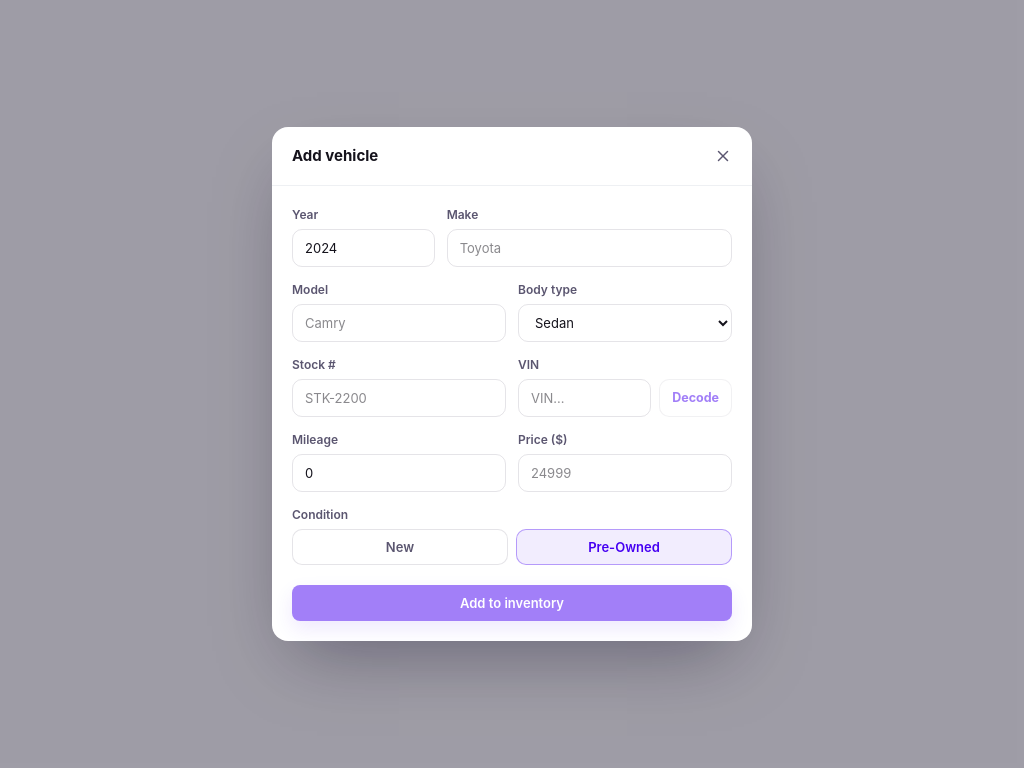
Test case: AddVehicleModal — VIN decode › clears a previous decode error as soon as the VIN is edited
Type "BADVIN" into the field with placeholder "VIN..." at (585, 398), box [518, 379, 651, 417]
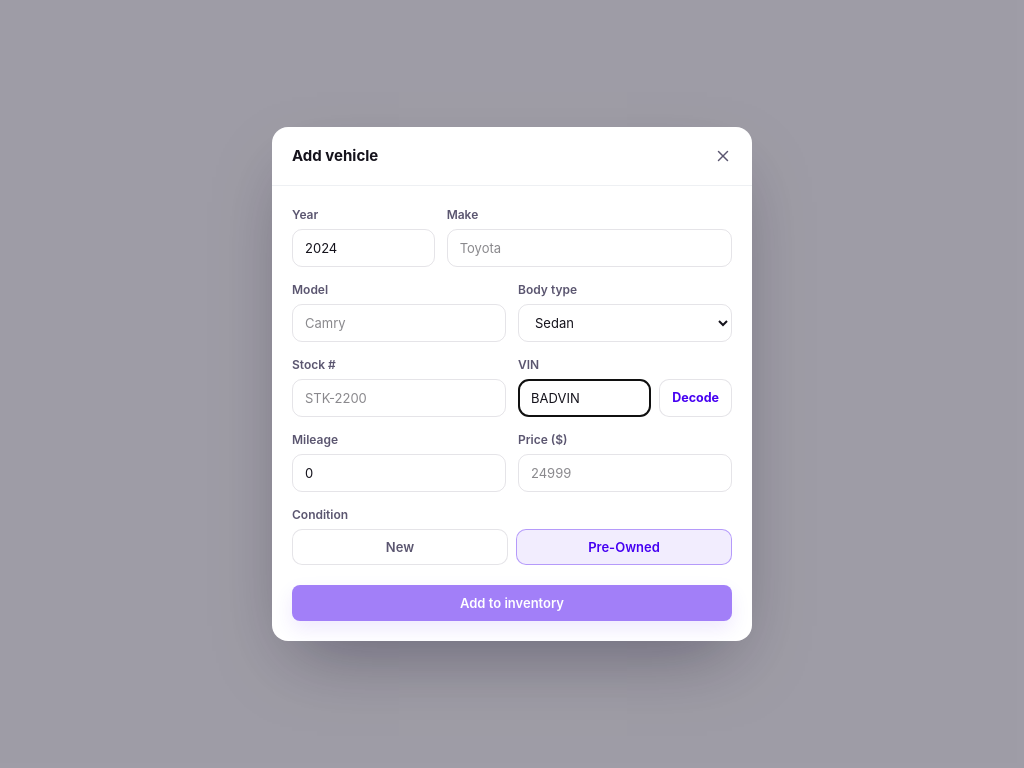
Click the button "Decode" at (696, 398), box [659, 379, 732, 417]
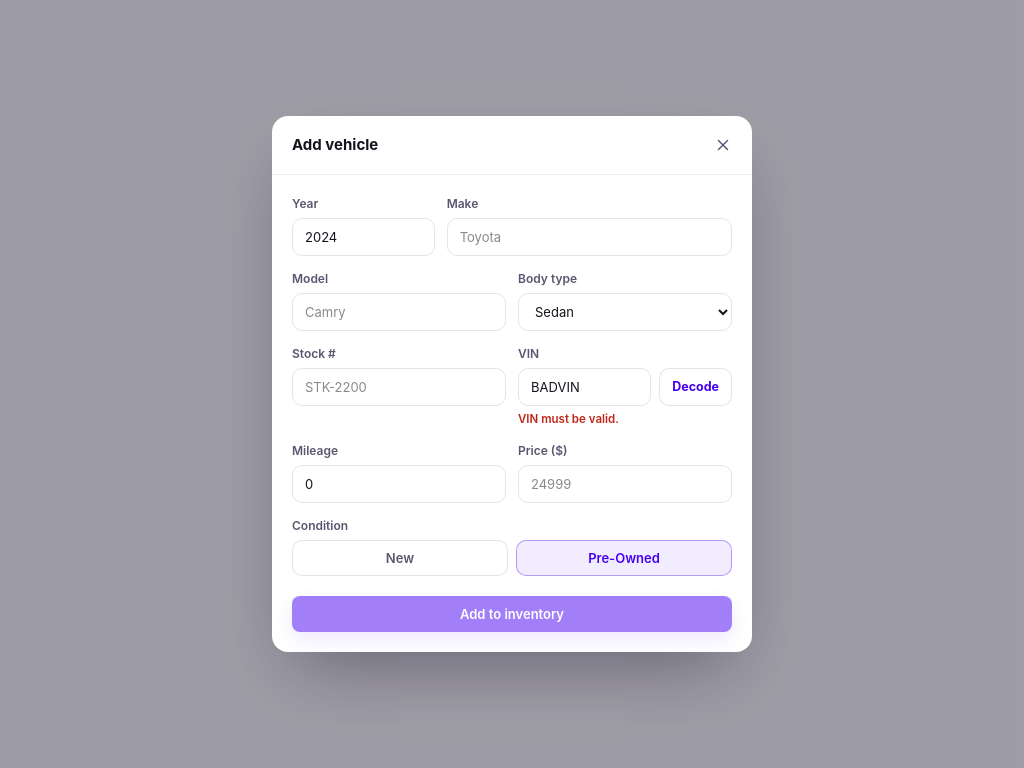
Result: the text "VIN must be valid." is shown at [518, 412, 619, 426]
Type "X" into the field with placeholder "VIN..." below "Stock #" at (585, 387), box [518, 368, 651, 406]
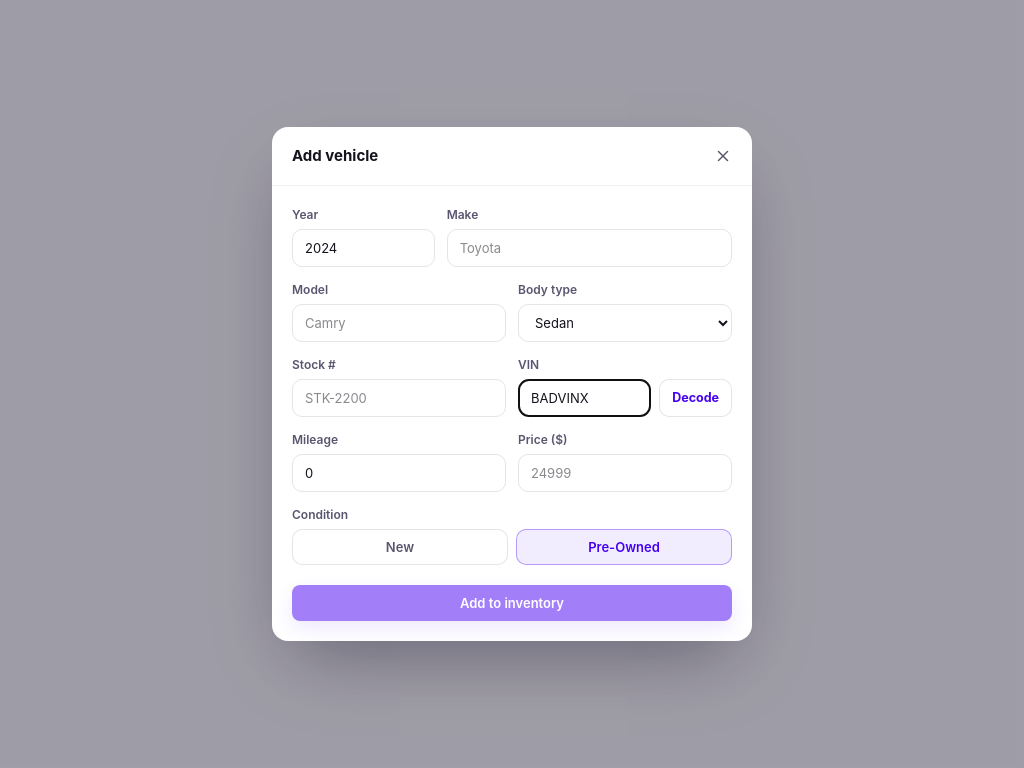
Result: the text "VIN must be valid." is gone
